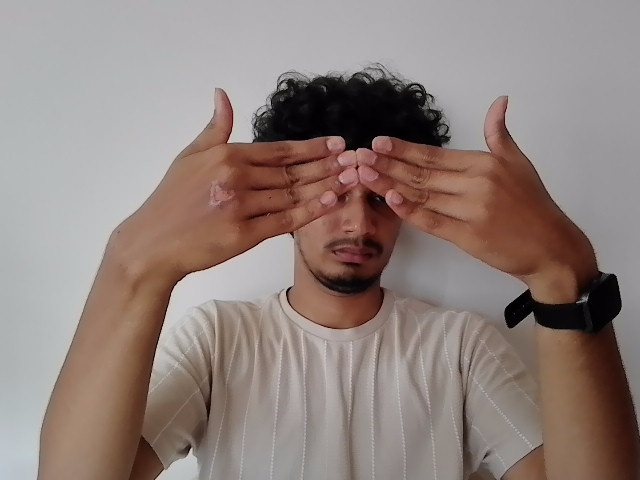family: (120, 85, 581, 278)
